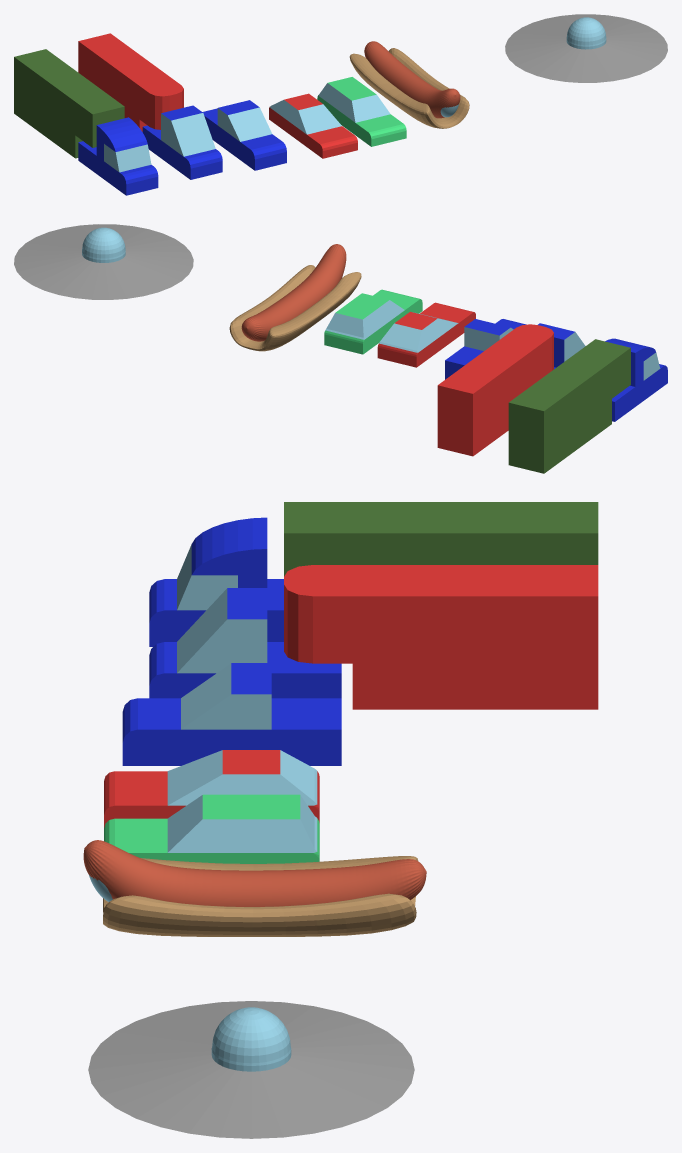
The model's file is vehicles.fbx.
3 views of the same model, one above another, from view 1: azimuth 30°, elevation 25°; view 2: azimuth 150°, elevation 25°; view 3: azimuth 270°, elevation 25° (orthographic). The views are drawn at different scales.
Parts seen in each view (by area): view 1: Cube.004, Cube.003, Cylinder.001, Cylinder, Cube.002, Cube.001, Cube; view 2: Cube.004, Cylinder.001, Cube.003, Cylinder, Cube, Cube.001, Cube.002; view 3: Cube.003, Cylinder.001, Cube.004, Cylinder, Cube.002, Cube.001, Cube.
Part boxes in pixels (left/top/right/bottom): Cube.004: left=14, top=49, right=158, bottom=195; Cube.003: left=78, top=33, right=222, bottom=179; Cylinder.001: left=505, top=14, right=667, bottom=82; Cylinder: left=349, top=41, right=469, bottom=128; Cube.002: left=202, top=100, right=286, bottom=170; Cube.001: left=317, top=77, right=406, bottom=146; Cube: left=269, top=93, right=357, bottom=158; Cube.004: left=508, top=338, right=667, bottom=473; Cylinder.001: left=14, top=224, right=193, bottom=299; Cube.003: left=437, top=323, right=585, bottom=456; Cylinder: left=229, top=244, right=361, bottom=351; Cube: left=377, top=302, right=475, bottom=367; Cube.001: left=324, top=289, right=422, bottom=354; Cube.002: left=445, top=319, right=526, bottom=379; Cube.003: left=149, top=565, right=598, bottom=709; Cylinder.001: left=88, top=1001, right=414, bottom=1138; Cube.004: left=149, top=502, right=598, bottom=646; Cylinder: left=83, top=840, right=426, bottom=936; Cube.002: left=122, top=663, right=341, bottom=765; Cube.001: left=104, top=794, right=319, bottom=863; Cube: left=104, top=750, right=319, bottom=827.
Bounding box in the file's own units: 4445 × 472 × 1780.
